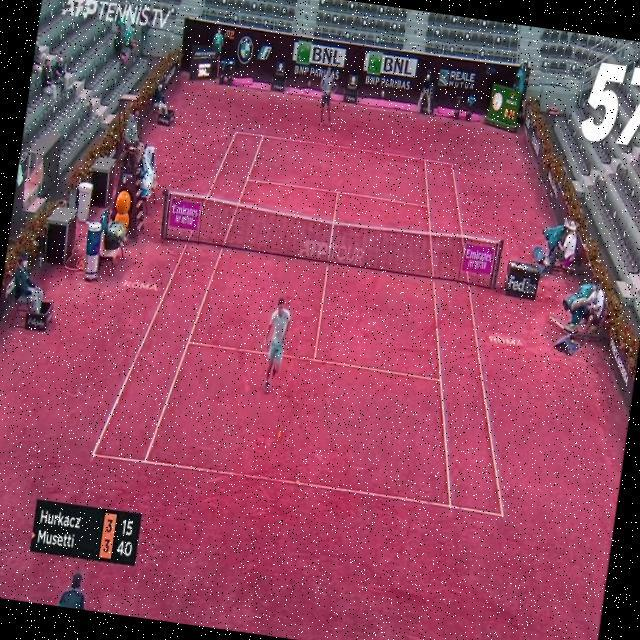court: (91, 116, 553, 518)
net: (158, 188, 506, 290)
player: (257, 296, 294, 395)
